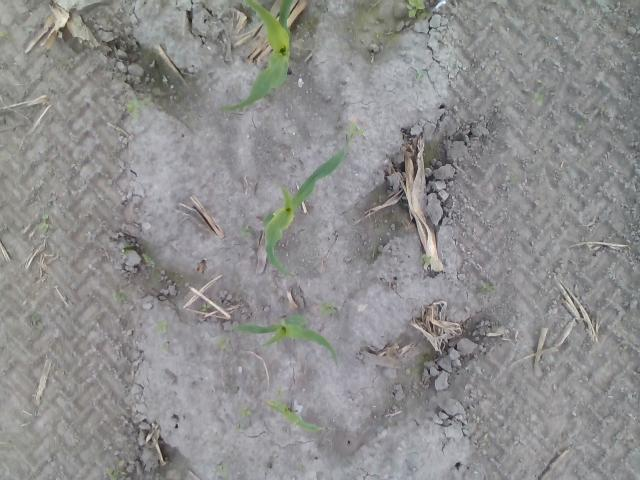Maize: (263, 146, 344, 279), (217, 0, 293, 113), (232, 314, 340, 368), (262, 398, 325, 432)
Weeds: (125, 96, 151, 122), (342, 123, 363, 148), (105, 460, 126, 480), (405, 0, 425, 19), (38, 213, 50, 233), (478, 281, 499, 292), (214, 336, 230, 350), (31, 312, 44, 329), (319, 301, 336, 314), (114, 289, 128, 303), (156, 318, 168, 334), (238, 405, 252, 418), (216, 463, 230, 476), (141, 252, 155, 264), (239, 225, 253, 237), (58, 58, 74, 68), (418, 253, 432, 264), (534, 92, 545, 106), (0, 30, 13, 40), (506, 172, 518, 182), (577, 120, 587, 131), (415, 70, 424, 82), (122, 244, 132, 254), (202, 303, 212, 312), (236, 424, 246, 432)
